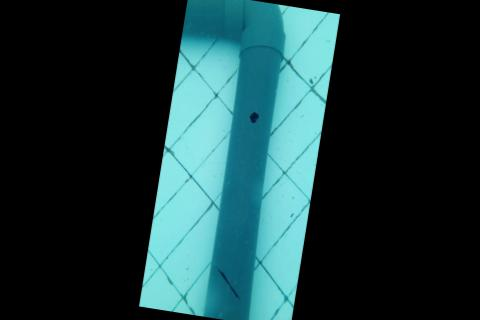kebocoran: (248, 109, 262, 126)
keretakan: (210, 265, 247, 302)
